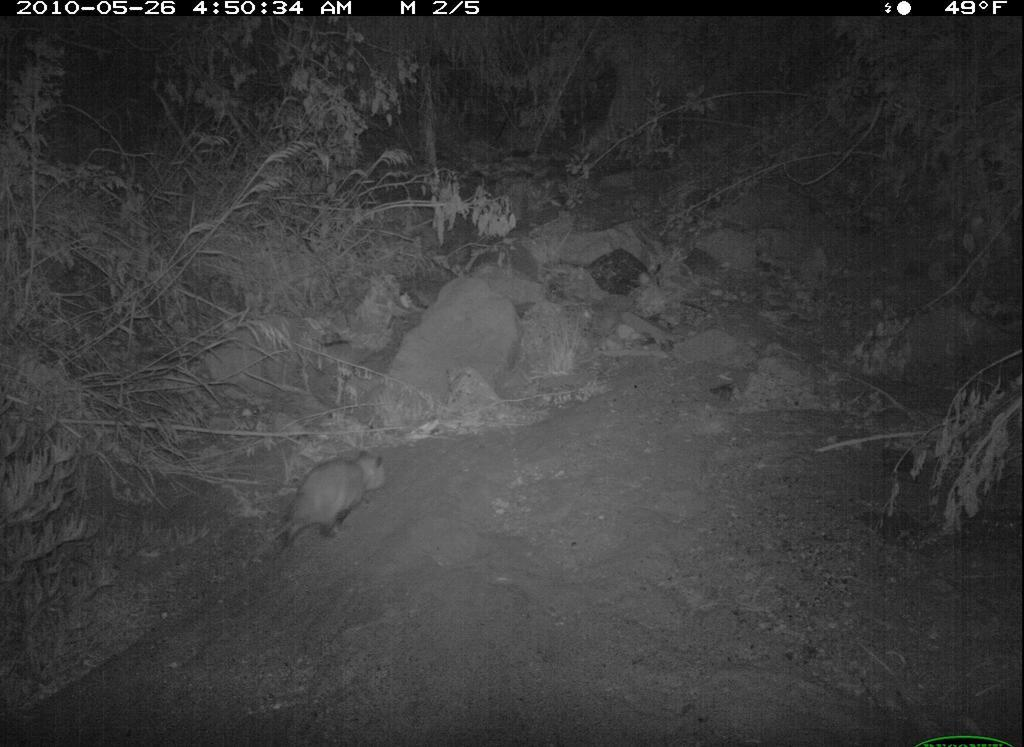opossum: (246, 429, 388, 569)
